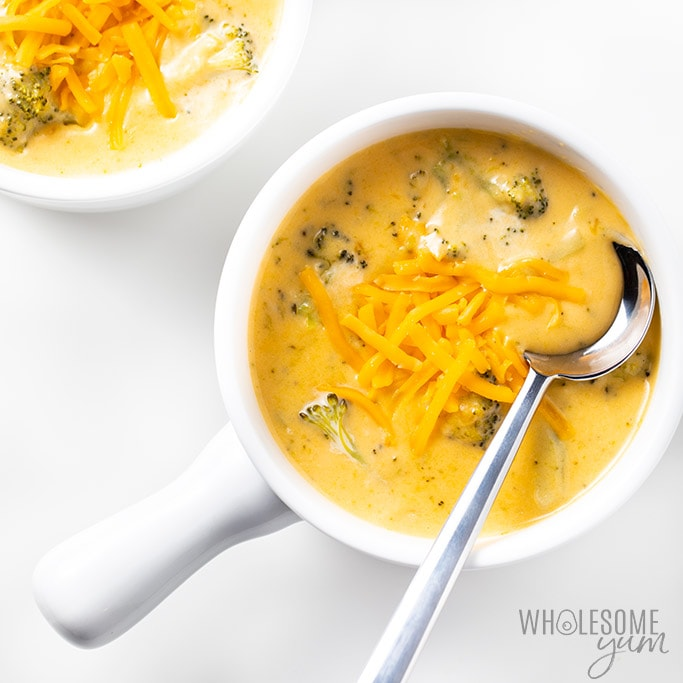cheese: (339, 273, 484, 407)
